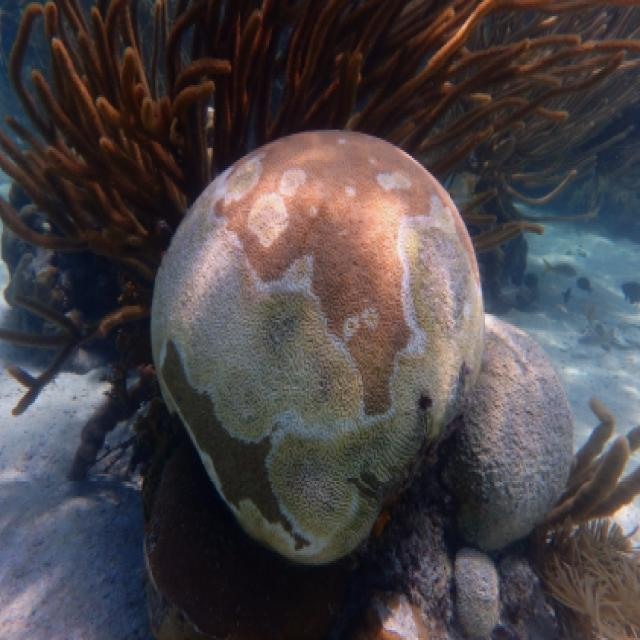Coral: (0, 0, 640, 415), (150, 128, 484, 564)
